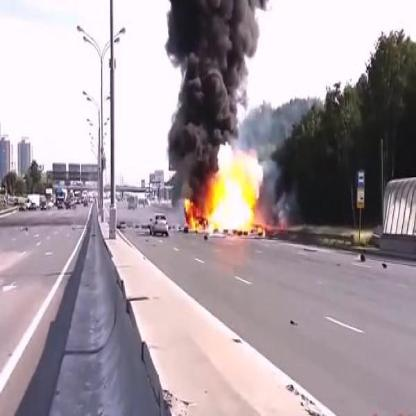fire: (184, 142, 266, 236)
